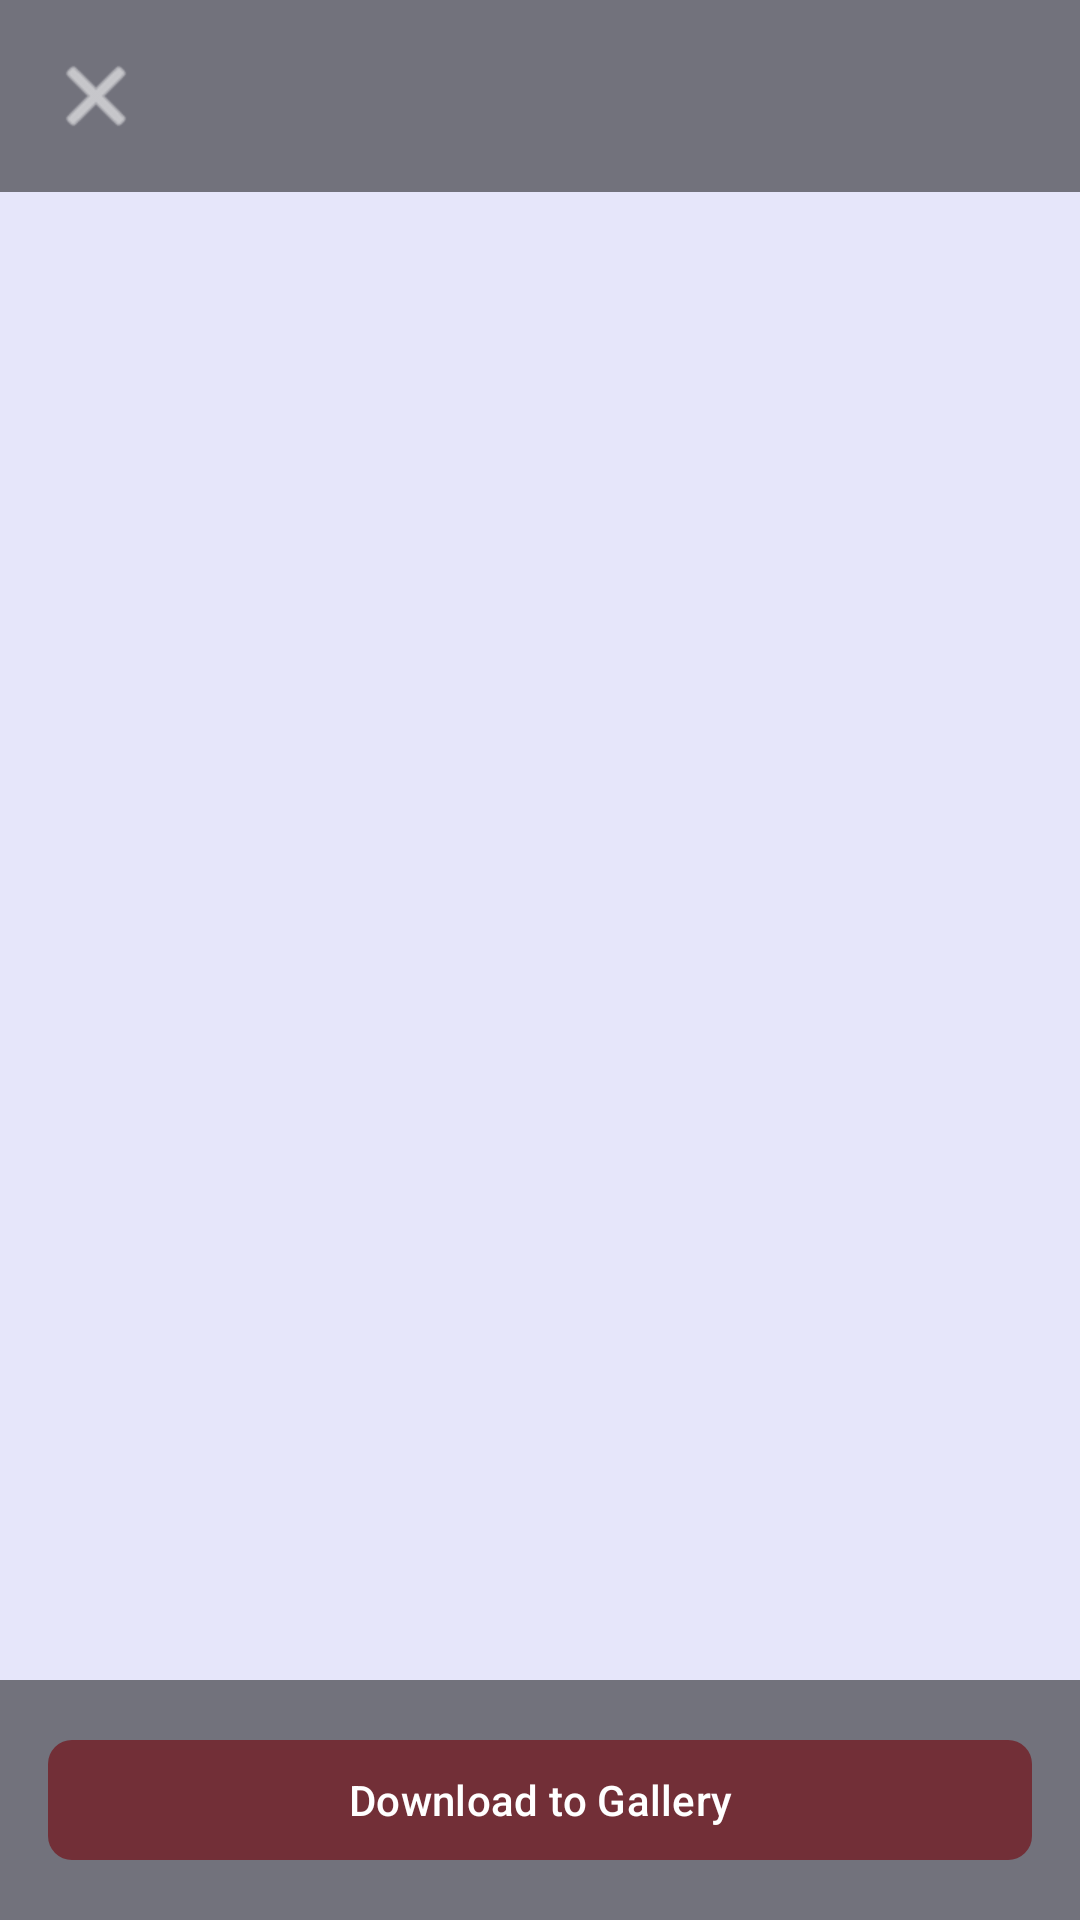

Icons on this 1080 x 1920 Android screen, each with its box as (x1, y1, x2, y2):
Close: (66, 66, 126, 126)
